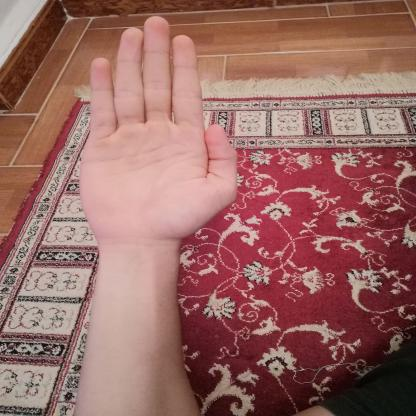SEEN: (66, 7, 249, 253)
